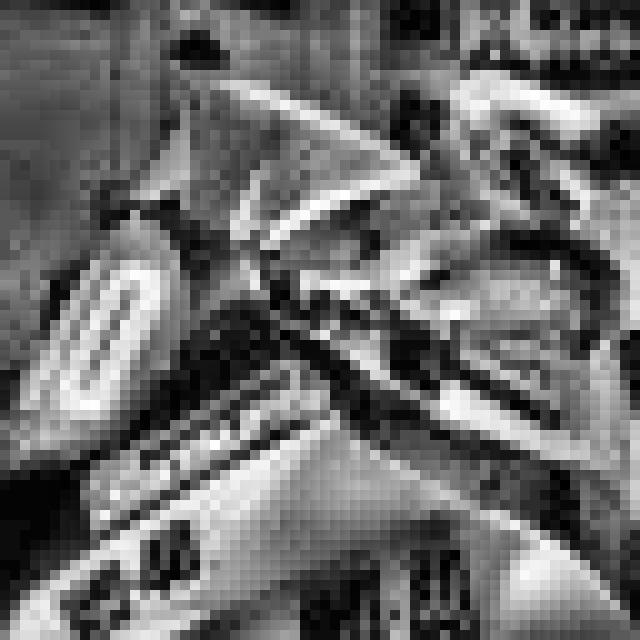mopeds: (5, 92, 640, 637)
